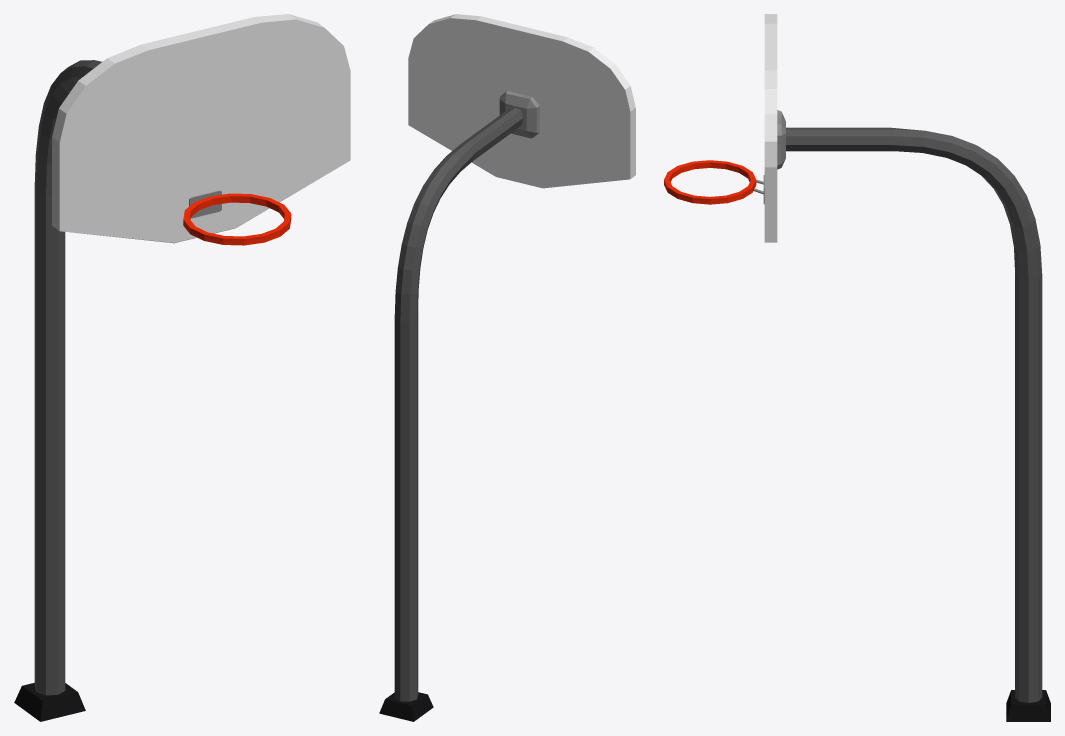
The model's file is Basket-hoop.fbx.
3 views of the same model, side by side, from view 1: azimuth 30°, elevation 25°; view 2: azimuth 150°, elevation 25°; view 3: azimuth 270°, elevation 25° (orthographic). The views are drawn at different scales.
Visible parts, largest first — view 1: BasketHoop; view 2: BasketHoop; view 3: BasketHoop.
Part boxes in pixels (x1,y1,x2,y2): BasketHoop: (14, 14, 350, 721); BasketHoop: (379, 14, 635, 721); BasketHoop: (664, 14, 1050, 721).
Size of what is drawn, in the model's own units: 1.47 by 3.77 by 1.99.
